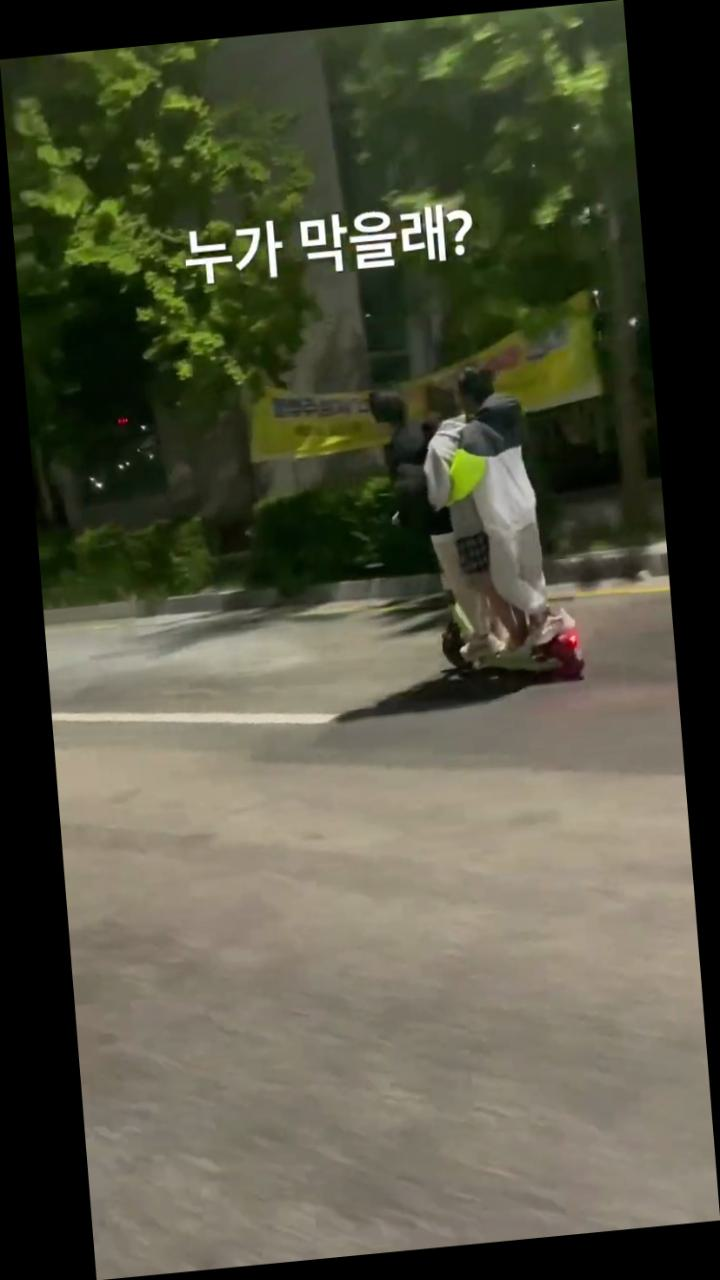multiple: (358, 355, 593, 697)
